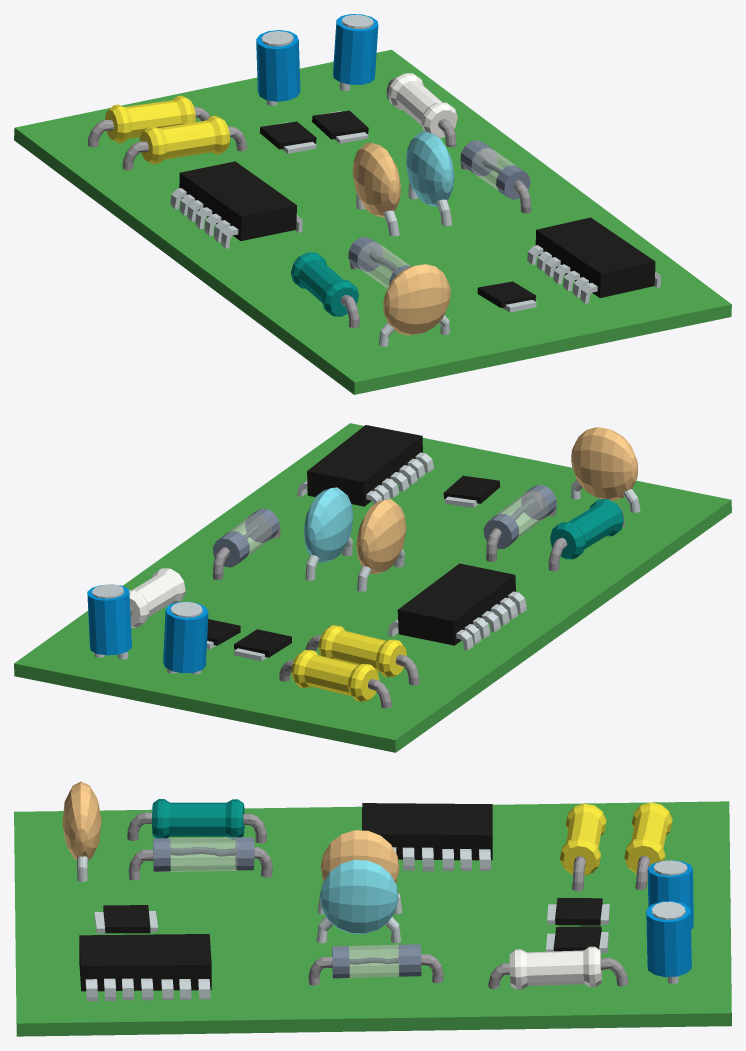
File: board.glb
3 renders of one model, top to bottom at view 1: azimuth 30°, elevation 25°; view 2: azimuth 150°, elevation 25°; view 3: azimuth 270°, elevation 25°, orthographic. The views are drawn at different scales.
Parts seen in each view (by area): view 1: group502520534, group1238052222; view 2: group502520534, group1238052222; view 3: group502520534, group1238052222.
Boxes of the visible parts, x1=… form: group502520534: x1=14, y1=14, x2=731, y2=394; group1238052222: x1=358, y1=148, x2=517, y2=288; group502520534: x1=14, y1=423, x2=731, y2=752; group1238052222: x1=227, y1=490, x2=548, y2=556; group502520534: x1=14, y1=781, x2=731, y2=1036; group1238052222: x1=170, y1=837, x2=399, y2=977.
Size of the model in its own units: 0.9196 by 0.2307 by 1.41.
Materials: 2 (2 with a texture image).
